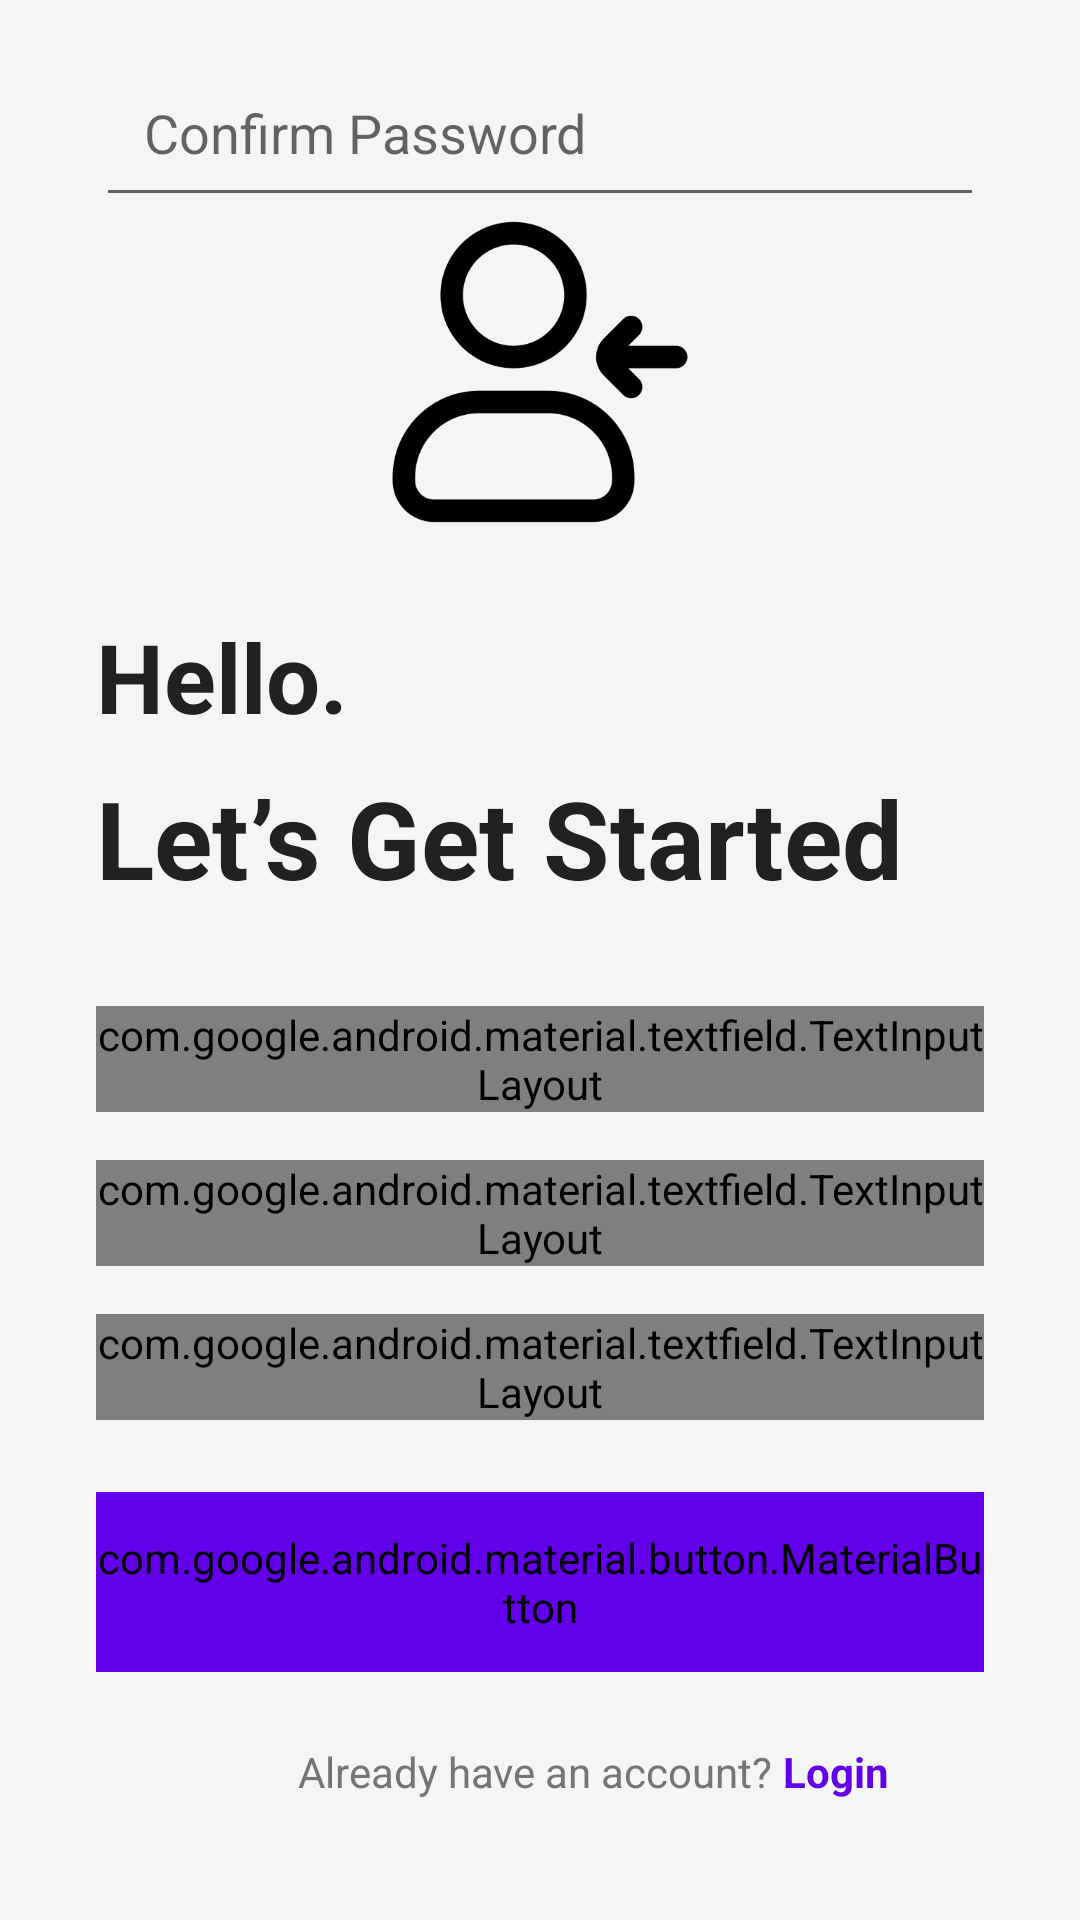

Screen size 1080×1920. Icon name, then its center in pixels as (x=x, y=y):
Sign Up Icon: (x=540, y=372)
